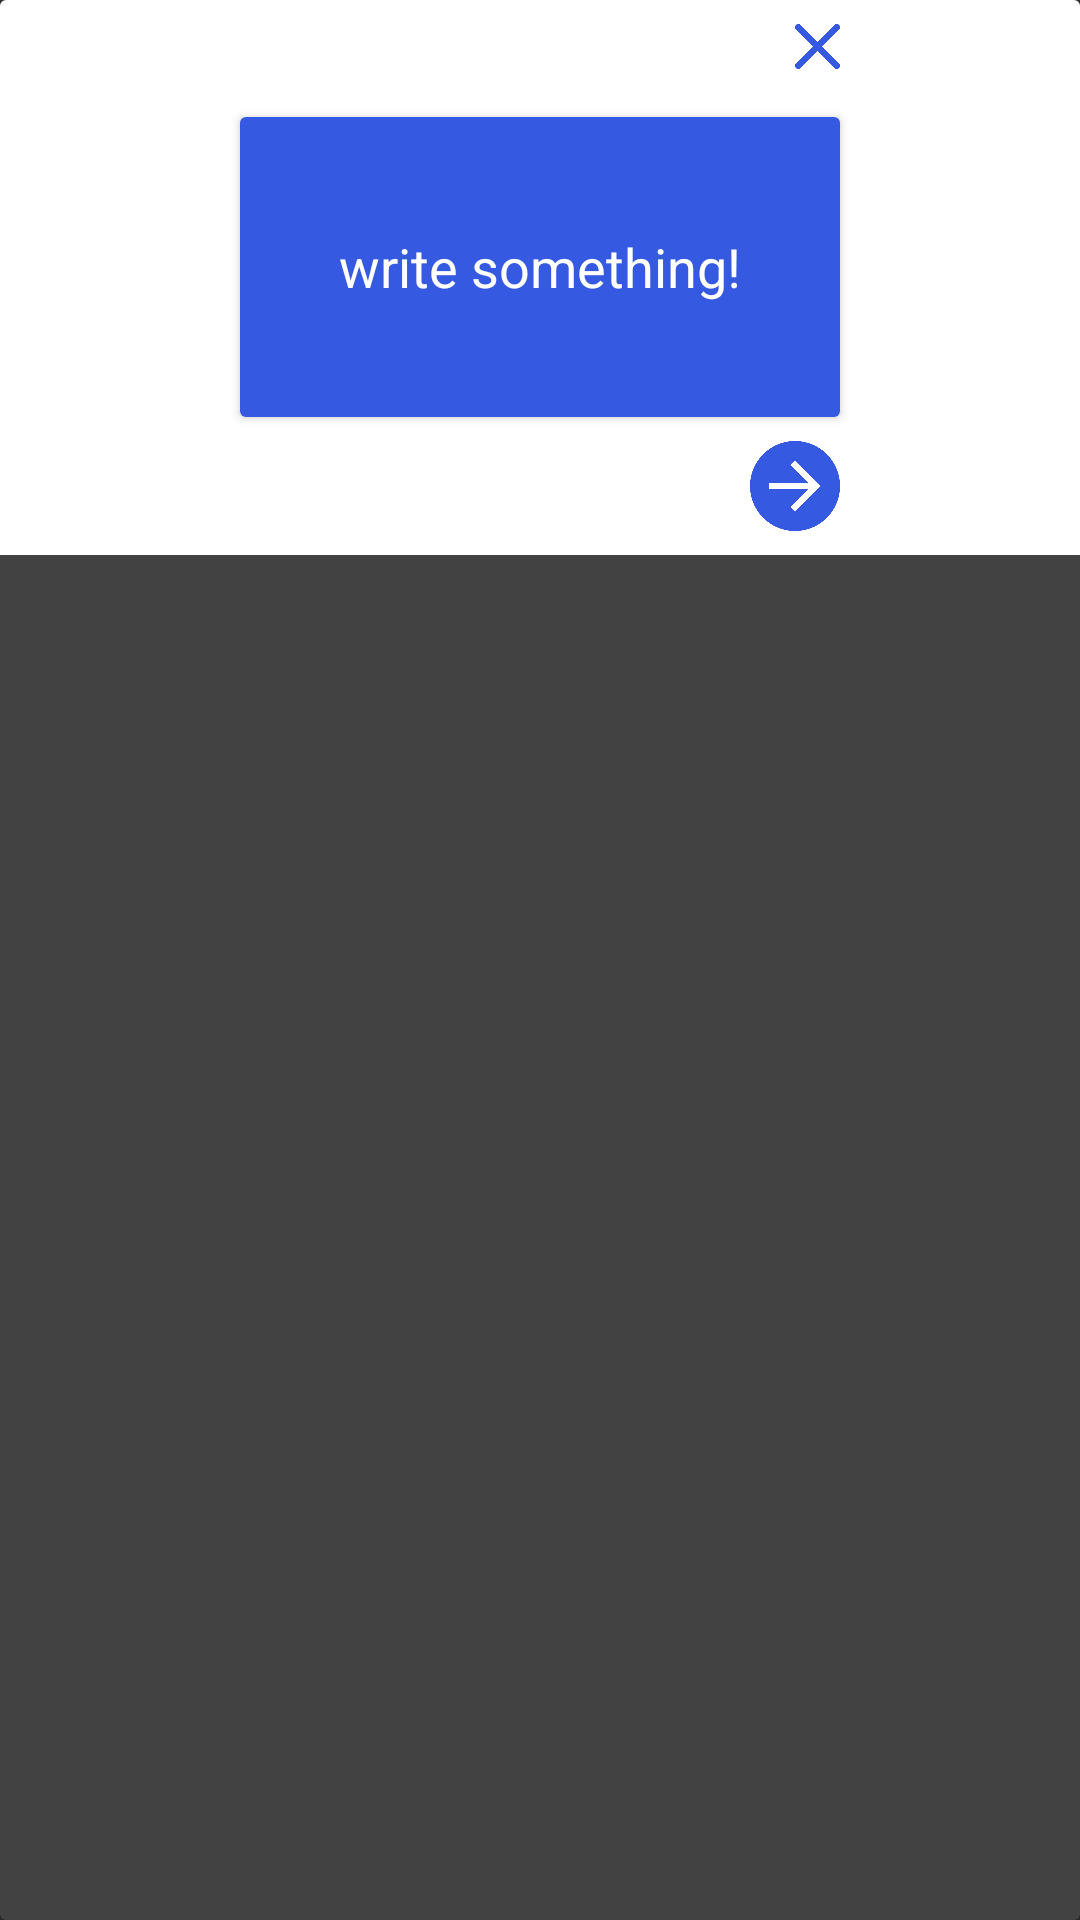

Screen size 1080px x 1920px. Icon name, then its box in pixels as (x1, y1, x2, y2):
close: (795, 24, 840, 69)
